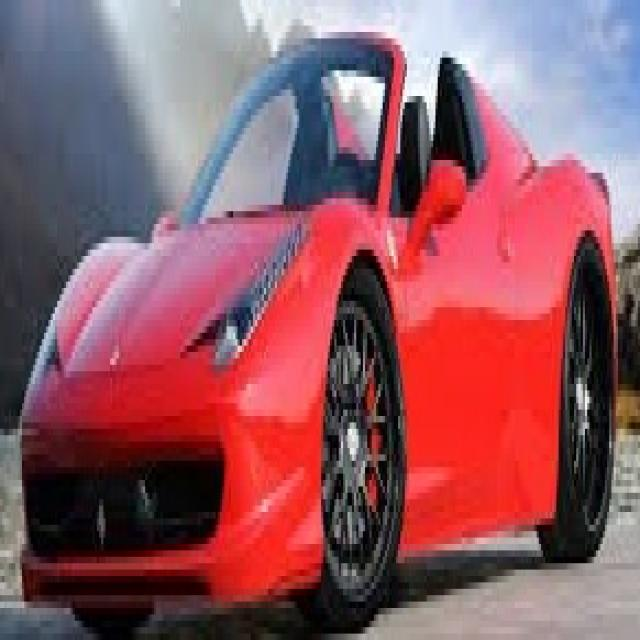red: (19, 0, 621, 640)
